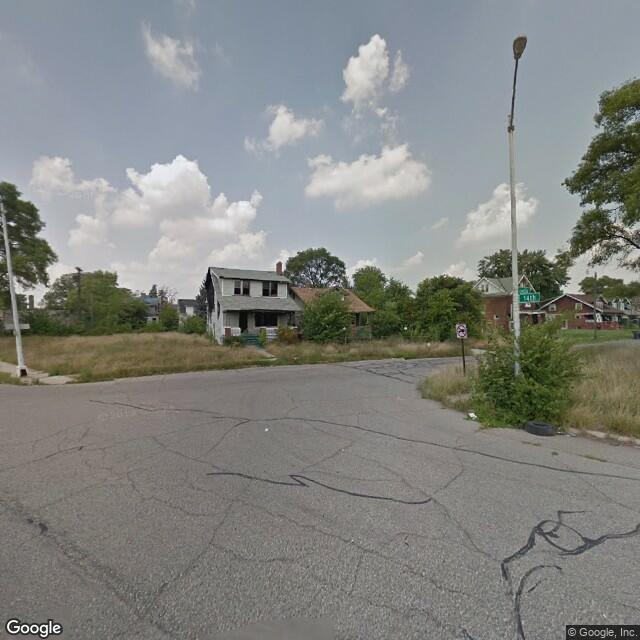litter: (467, 409, 481, 421)
